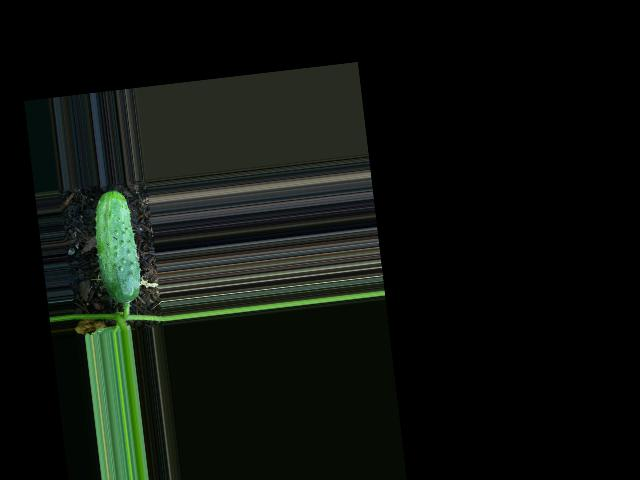cucumber: (89, 187, 143, 305)
